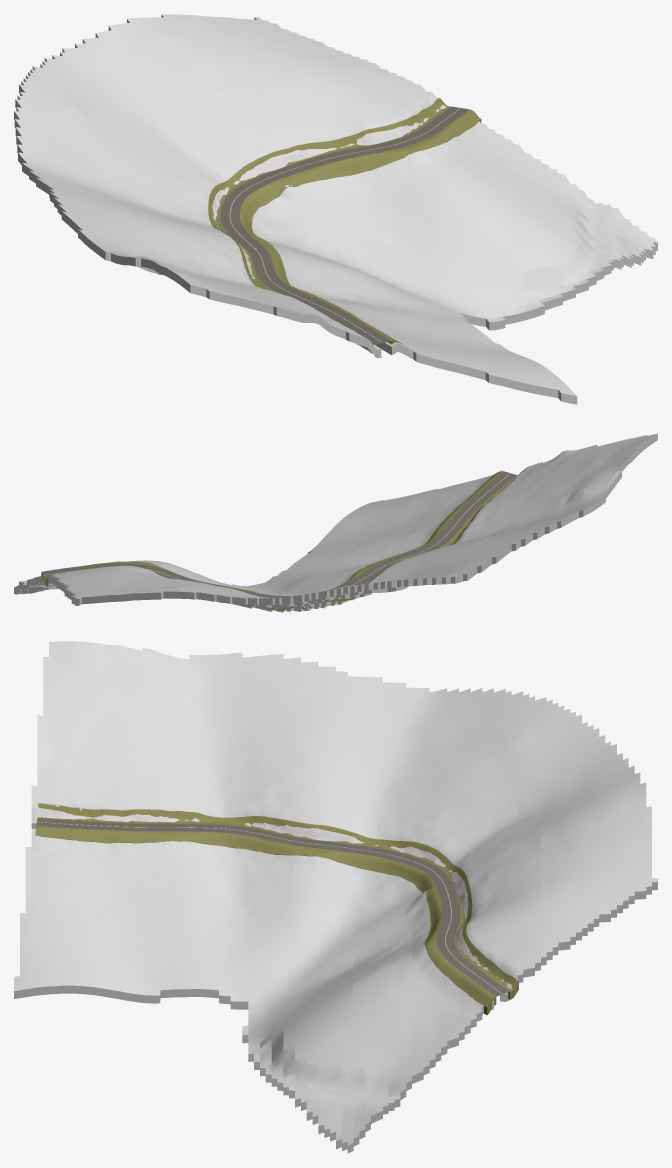
File: conz_208.glb
3 views of the same model, one above another, from view 1: azimuth 30°, elevation 25°; view 2: azimuth 150°, elevation 25°; view 3: azimuth 270°, elevation 25° (orthographic). The views are drawn at different scales.
Parts seen in each view (by area): view 1: terrain208, road208, verge208R, verge208L; view 2: terrain208, road208, verge208R, verge208L; view 3: terrain208, verge208R, road208, verge208L.
Part boxes in pixels (bbox=[...]): terrain208: bbox=[14, 14, 657, 404]; road208: bbox=[220, 106, 468, 344]; verge208R: bbox=[239, 109, 481, 344]; verge208L: bbox=[208, 98, 450, 353]; terrain208: bbox=[14, 433, 657, 612]; road208: bbox=[43, 471, 516, 598]; verge208R: bbox=[41, 471, 503, 596]; verge208L: bbox=[45, 469, 524, 610]; terrain208: bbox=[14, 641, 657, 1153]; verge208R: bbox=[35, 825, 496, 1015]; road208: bbox=[36, 818, 509, 996]; verge208L: bbox=[37, 803, 518, 999].
Bounding box in the file's own units: 238 × 84.32 × 220.
